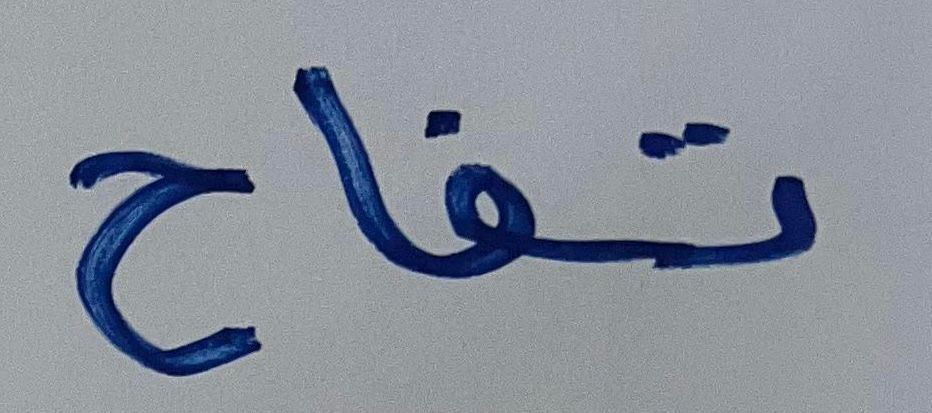alef: (292, 40, 412, 294)
feh: (418, 85, 579, 300)
jeem: (30, 114, 279, 383)
teh: (589, 98, 839, 307)
